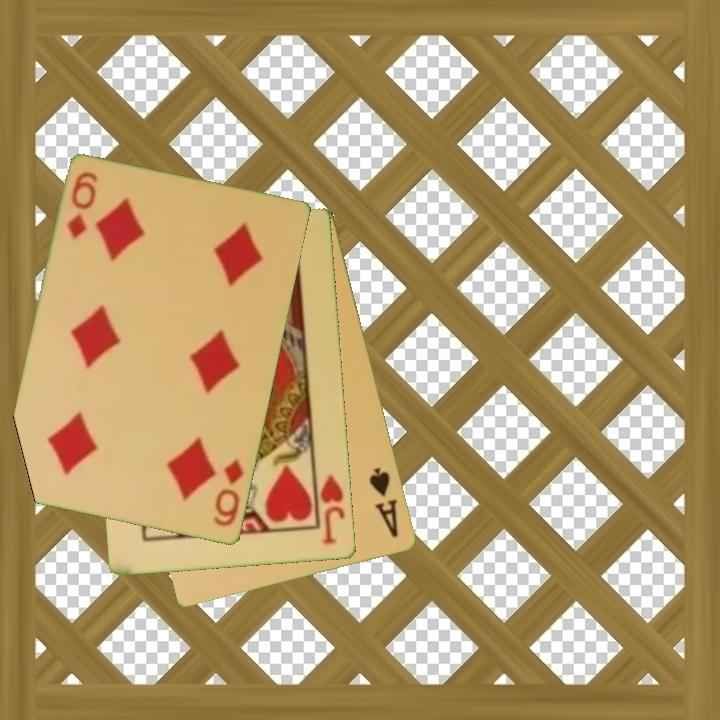6d: (210, 455, 247, 530), (63, 169, 100, 242)
As: (366, 464, 402, 541)
Jh: (317, 471, 348, 548)
